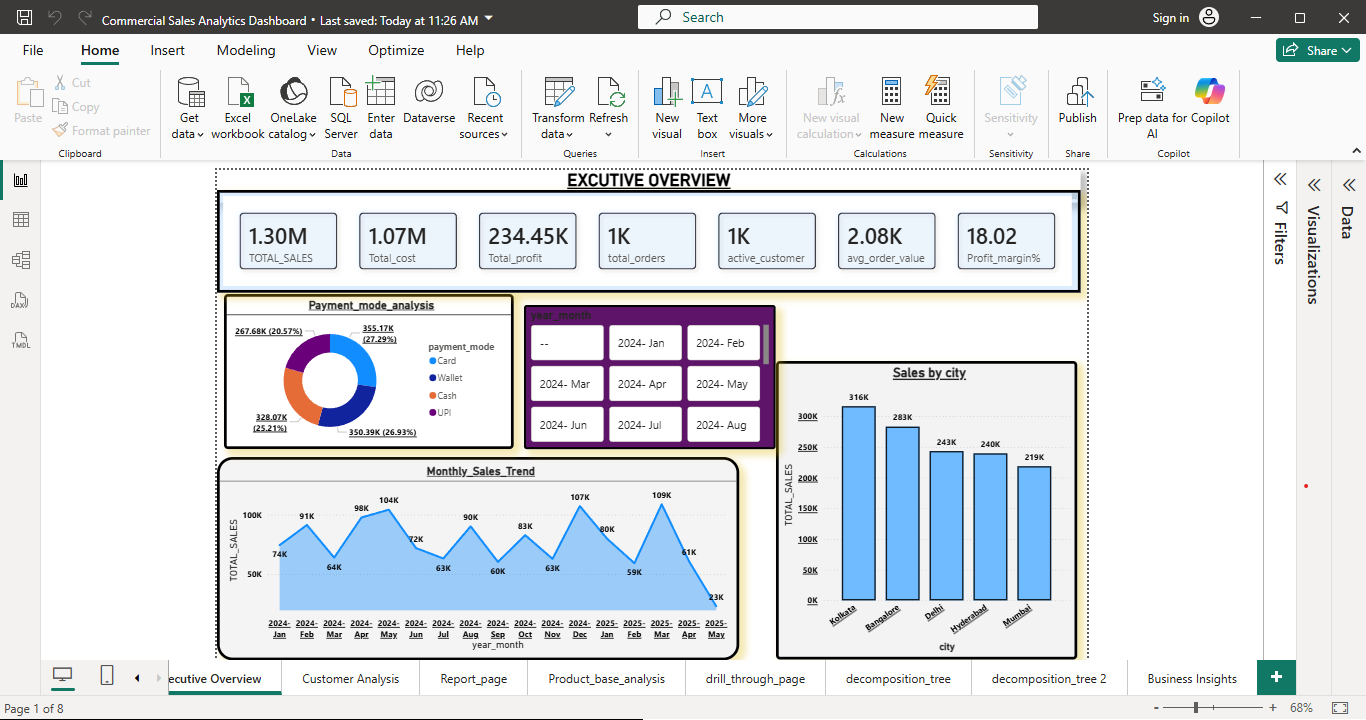

The dashboard page shown, as its layout file describes it:
{"tool":"powerbi","page":{"name":"Executive Overview","canvas":[1280,720],"ordinal":0},"visuals":[{"type":"lineChart","title":"Monthly_Sales_Trend","fields":{"Y":["Measure_Table.TOTAL_SALES"],"Category":["Date_Table.year_month"]},"box":[0,421.5,768.3,298.5],"z":0},{"type":"columnChart","title":"Sales by city","fields":{"Category":["delivery_partner customers.city"],"Y":["Measure_Table.TOTAL_SALES"]},"box":[822.4,281,443.4,439],"z":1000},{"type":"donutChart","title":" Payment_mode_analysis","fields":{"Category":["delivery_partner orders.payment_mode"],"Y":["Measure_Table.TOTAL_SALES"]},"box":[10.2,182.9,425.9,228.3],"z":2000},{"type":"textbox","title":"EXCUTIVE OVERVIEW","box":[0,0,1270.2,48.3],"z":3000},{"type":"cardVisual","fields":{"Data":["Measure_Table.TOTAL_SALES","Measure_Table.Total_cost","Measure_Table.Total_profit","Measure_Table.total_orders","Measure_Table.active_customer","Measure_Table.avg_order_value","Measure_Table.Profit_margin%"]},"box":[0,29.3,1270.2,150.7],"z":4000},{"type":"advancedSlicerVisual","fields":{"Values":["Date_Table.year_month"]},"box":[452.2,199,370.2,212.2],"z":5000}]}

Visuals, with their boxes on the page's 1280x720 design canvas (x1, y1, x2, y2). These are canvas units, not pixel positions in the 1366x720 screenshot, which may show the page scaled, cropped or inside an application window:
"Monthly_Sales_Trend" lineChart: crop(0, 422, 768, 720)
"Sales by city" columnChart: crop(822, 281, 1266, 720)
" Payment_mode_analysis" donutChart: crop(10, 183, 436, 411)
"EXCUTIVE OVERVIEW" textbox: crop(0, 0, 1270, 48)
cardVisual - Measure_Table.TOTAL_SALES x Measure_Table.Total_cost: crop(0, 29, 1270, 180)
advancedSlicerVisual - Date_Table.year_month: crop(452, 199, 822, 411)
